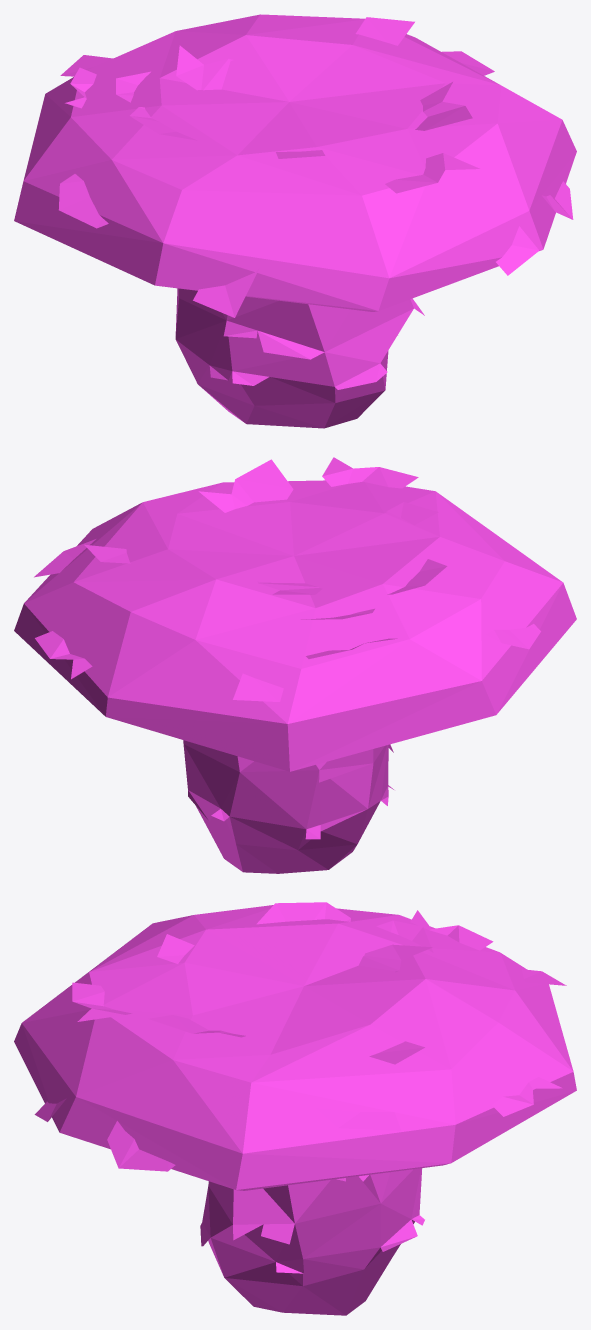
File: SM_Mushroom_Fluffy_Big_D_Fantasy.fbx
3 renders of one model, top to bottom at view 1: azimuth 30°, elevation 25°; view 2: azimuth 150°, elevation 25°; view 3: azimuth 270°, elevation 25°, orthographic. The views are drawn at different scales.
Visible parts, largest first — view 1: SM_Mushroom_Fluffy_Big_D_Fantasy; view 2: SM_Mushroom_Fluffy_Big_D_Fantasy; view 3: SM_Mushroom_Fluffy_Big_D_Fantasy.
Part boxes in pixels (box(x1,y1,x2,y2)): SM_Mushroom_Fluffy_Big_D_Fantasy: box(14, 14, 576, 428); SM_Mushroom_Fluffy_Big_D_Fantasy: box(14, 457, 576, 873); SM_Mushroom_Fluffy_Big_D_Fantasy: box(14, 902, 576, 1315).
Size of the model in its own units: 1.49 by 0.9733 by 1.5.
